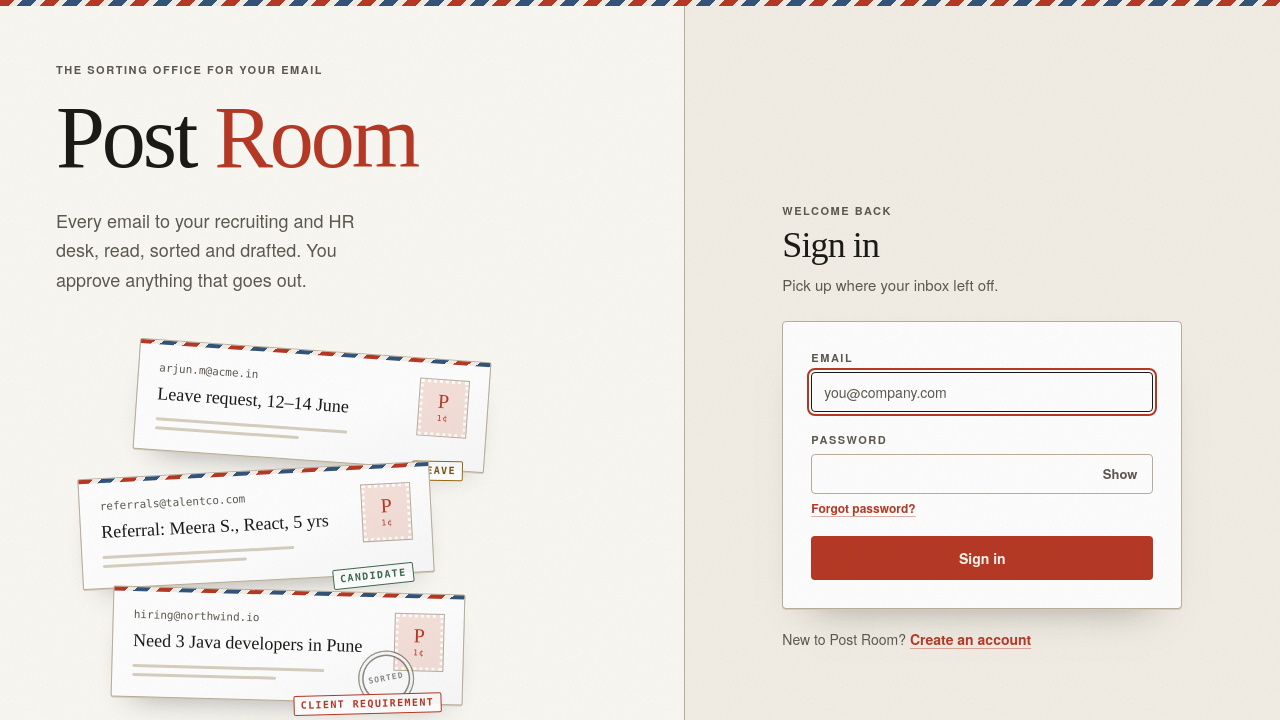
it: SignInPage › moves to the code step when signing in with an unverified email
Type "new@b.test" into the field labelled "Email" at (982, 392), box x1=811 y1=372 x2=1153 y2=412
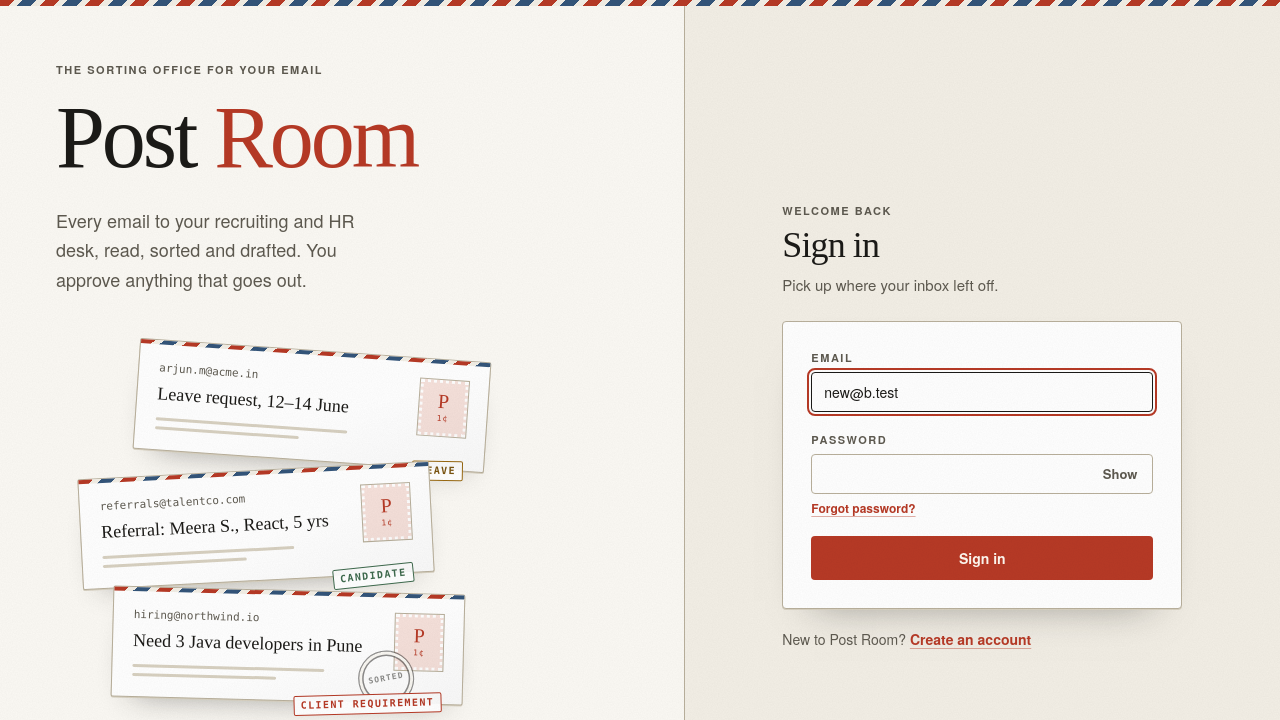
Type "correct-horse" into the password field labelled "Password" at (982, 474), box x1=811 y1=454 x2=1153 y2=494
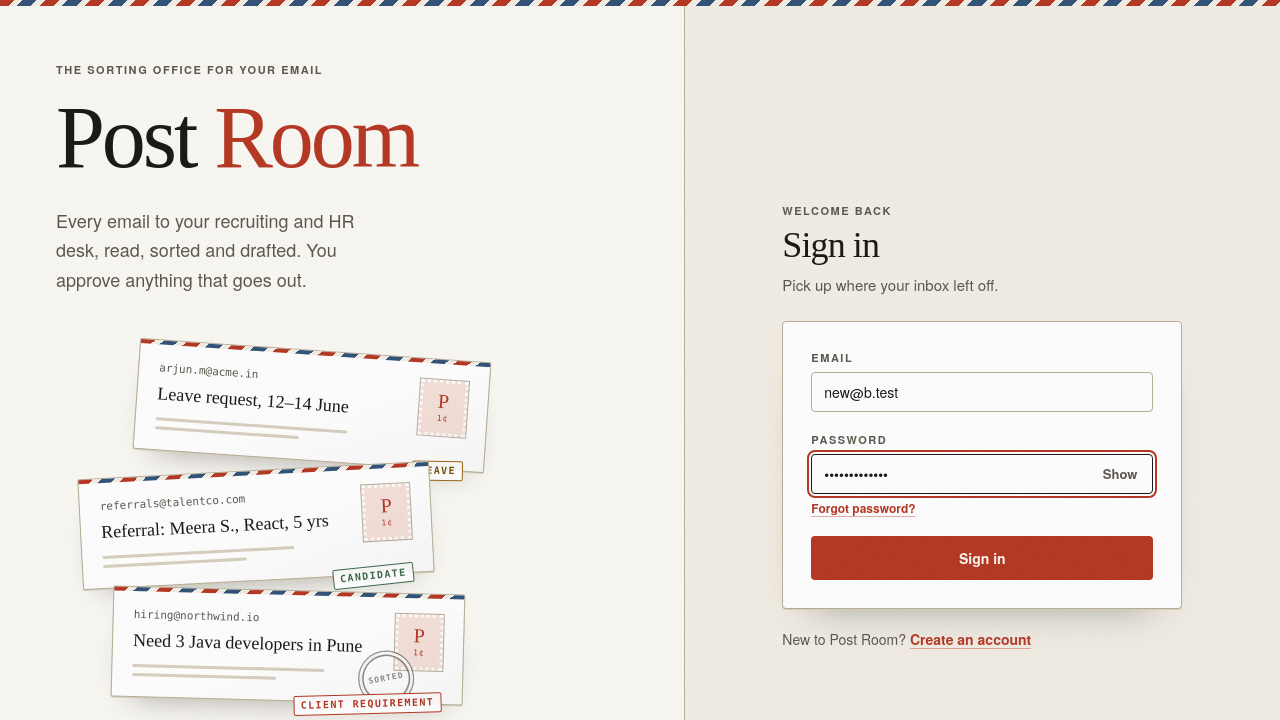
Click the button "Sign in" at (982, 558), box x1=811 y1=536 x2=1153 y2=580
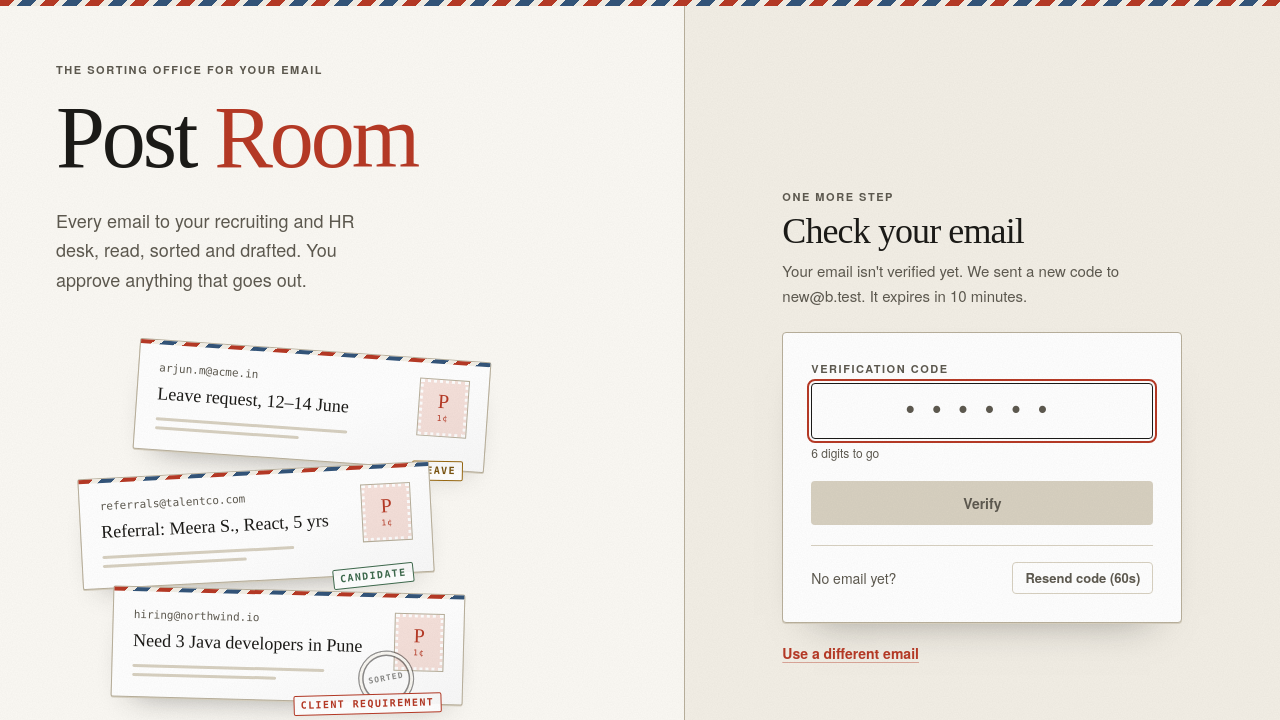
Now the heading "Check your email" is shown, box x1=782 y1=211 x2=1024 y2=251
Now the text "We sent a new code to new@b.test" is shown, box x1=782 y1=260 x2=1119 y2=306
Now the button "Verify" is disabled, box x1=811 y1=481 x2=1153 y2=525
Click the button "Use a different email" at (851, 653), box x1=782 y1=643 x2=919 y2=663
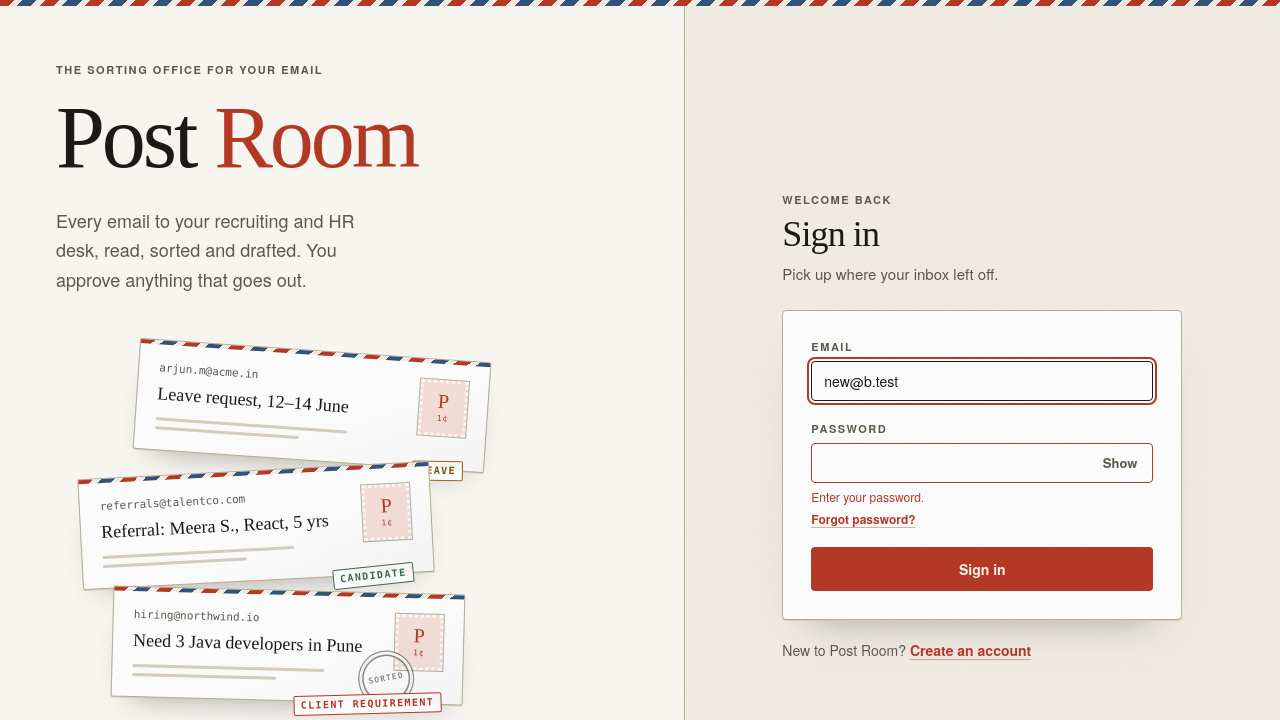
Now the heading "Sign in" is shown, box x1=782 y1=214 x2=879 y2=254
